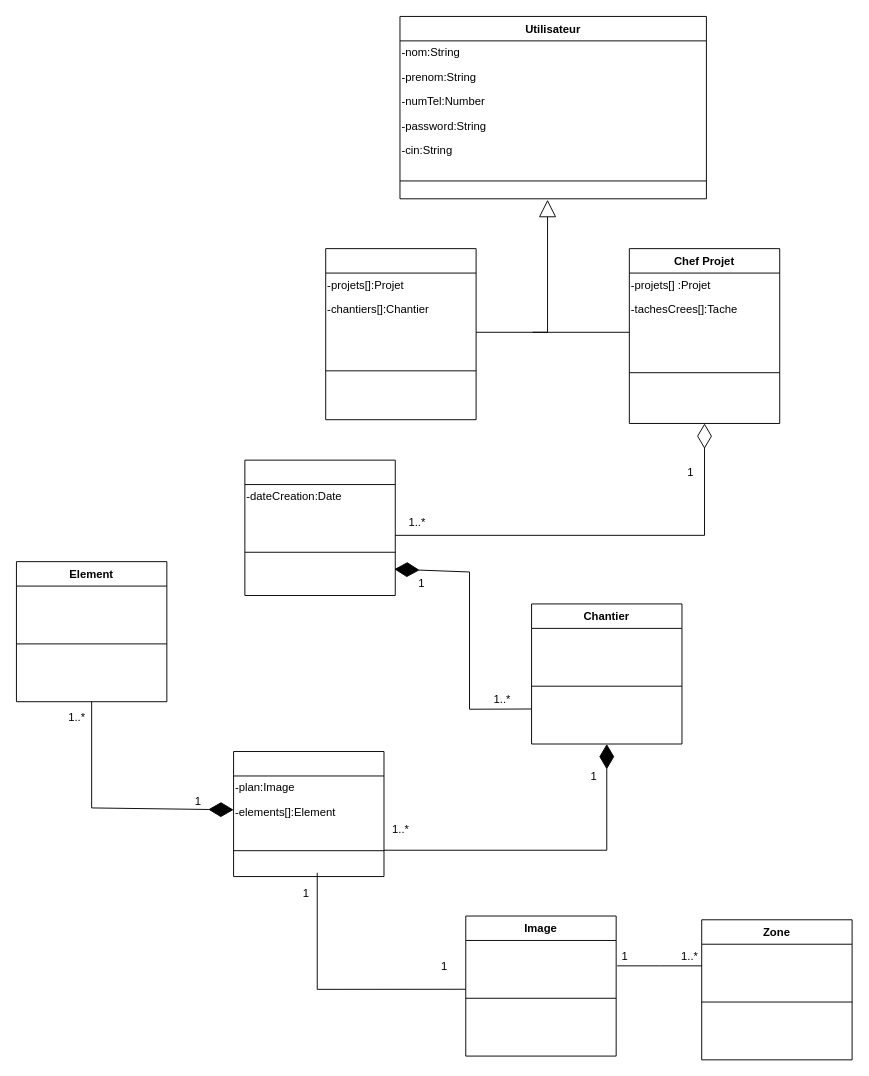
Image size: 869x1076. Some labels were removed from this diagram. The box of each missing label's shape, as (x1, y1, x2, y2) in pixels:
Administration: (325, 248, 476, 420)
Etage: (233, 751, 384, 877)
Projet: (244, 459, 395, 595)
